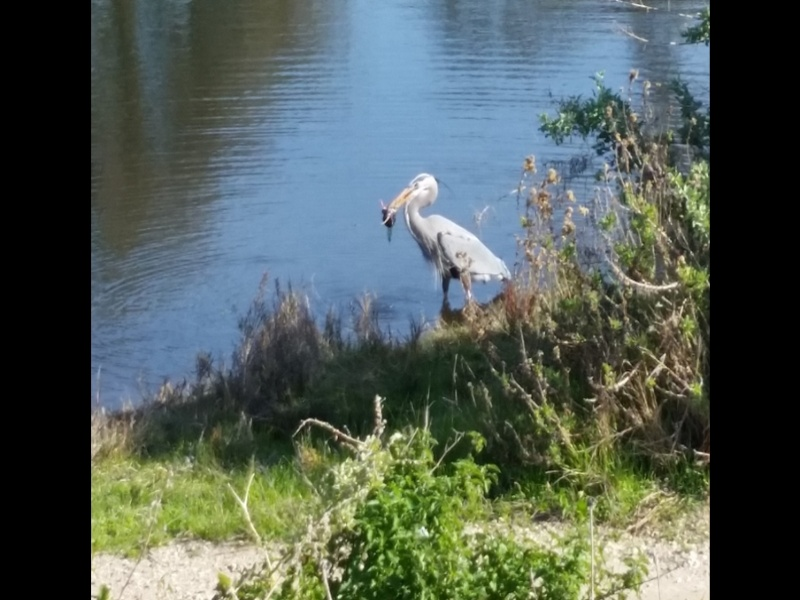heron: (383, 170, 512, 308)
